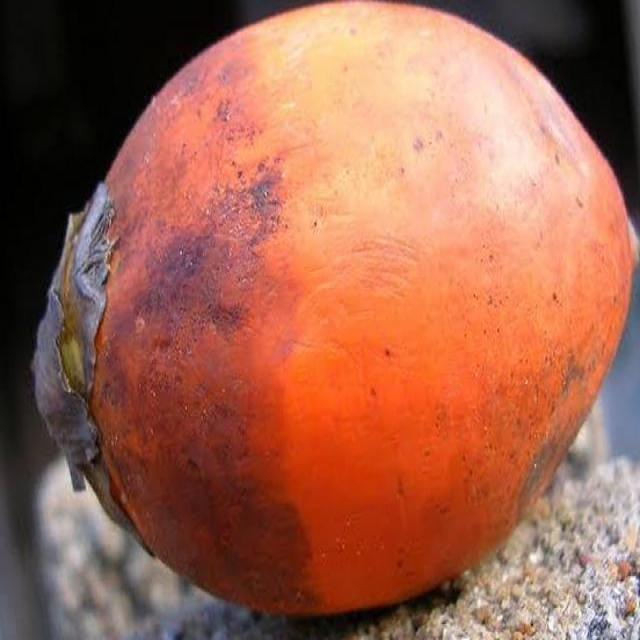good: (32, 1, 639, 620)
